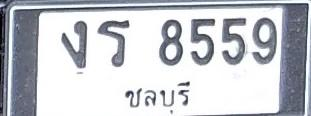5: (190, 17, 216, 65), (221, 16, 246, 65)
8: (158, 18, 183, 66)
9: (251, 16, 276, 64)
A07: (60, 20, 88, 70)
A35: (96, 18, 130, 67)
CBI: (120, 79, 194, 116)
